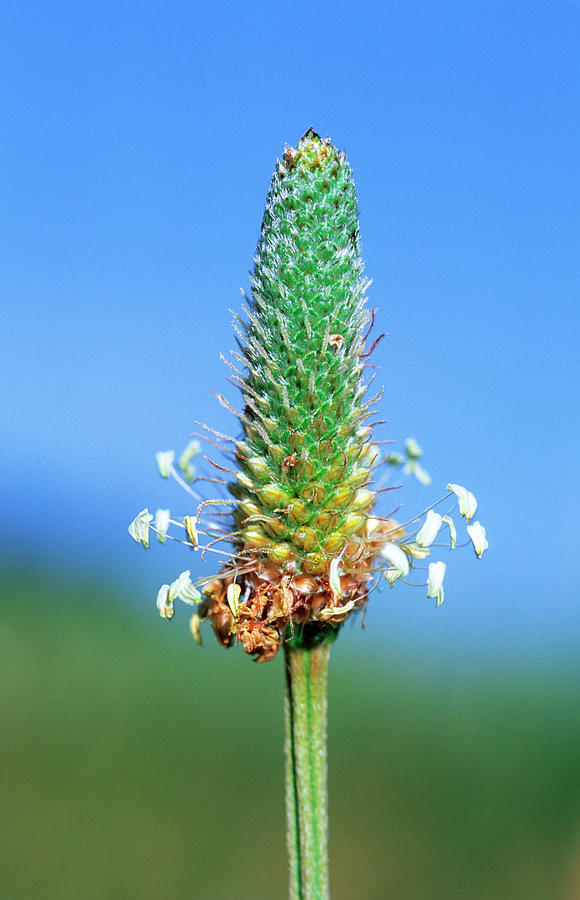buckhorn plantain: (155, 104, 487, 822)
